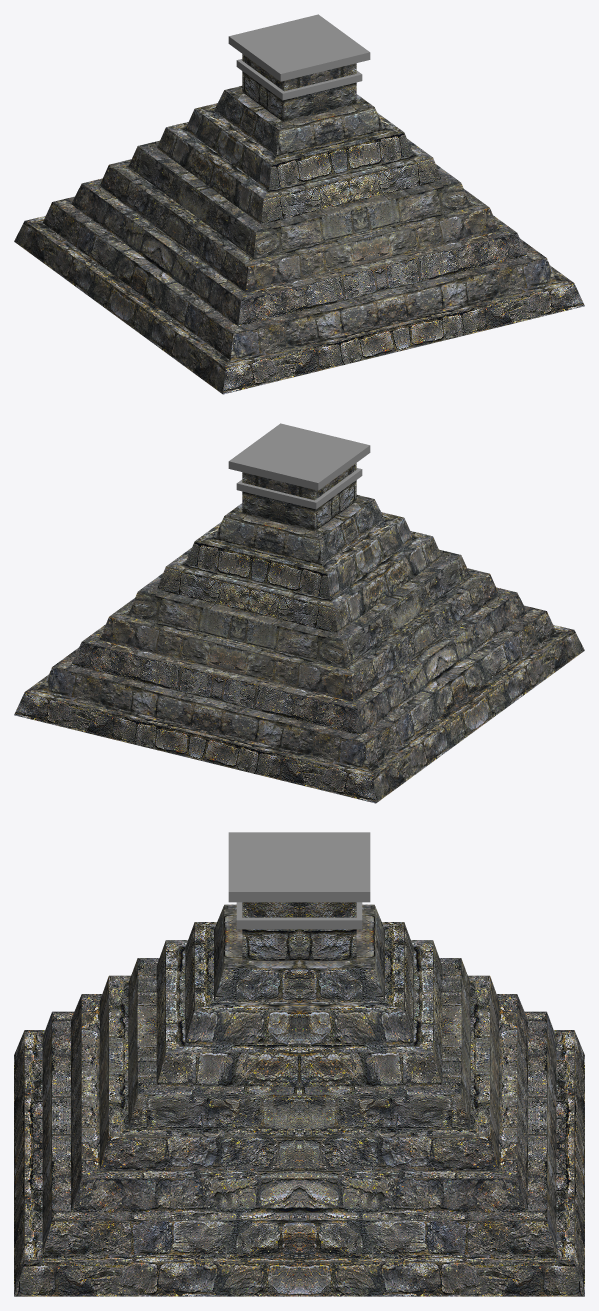
File: Aztec01.FBX
3 renders of one model, top to bottom at view 1: azimuth 30°, elevation 25°; view 2: azimuth 150°, elevation 25°; view 3: azimuth 270°, elevation 25°, orthographic. The views are drawn at different scales.
Visible parts, largest first — view 1: aztecpy01; view 2: aztecpy01; view 3: aztecpy01.
Part boxes in pixels (<box>): aztecpy01: <box>14,14,584,394</box>; aztecpy01: <box>14,423,584,803</box>; aztecpy01: <box>14,832,584,1296</box>.
Bounding box in the file's own units: 3937 × 2387 × 3937.
